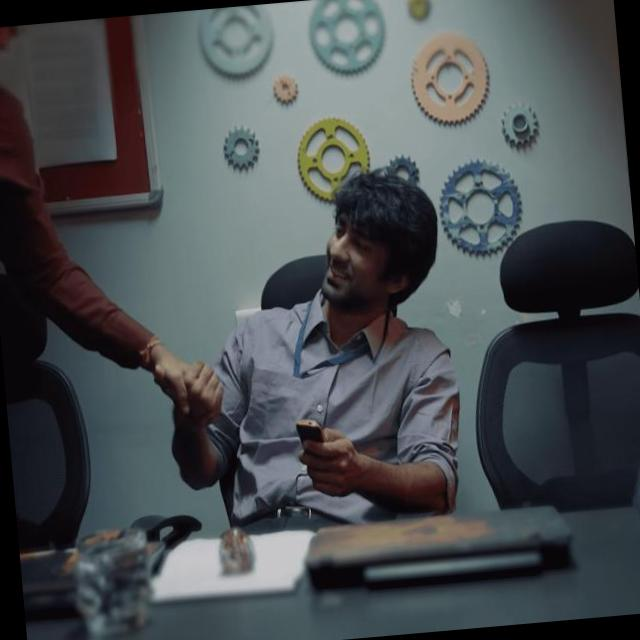id_card: (280, 290, 380, 384)
